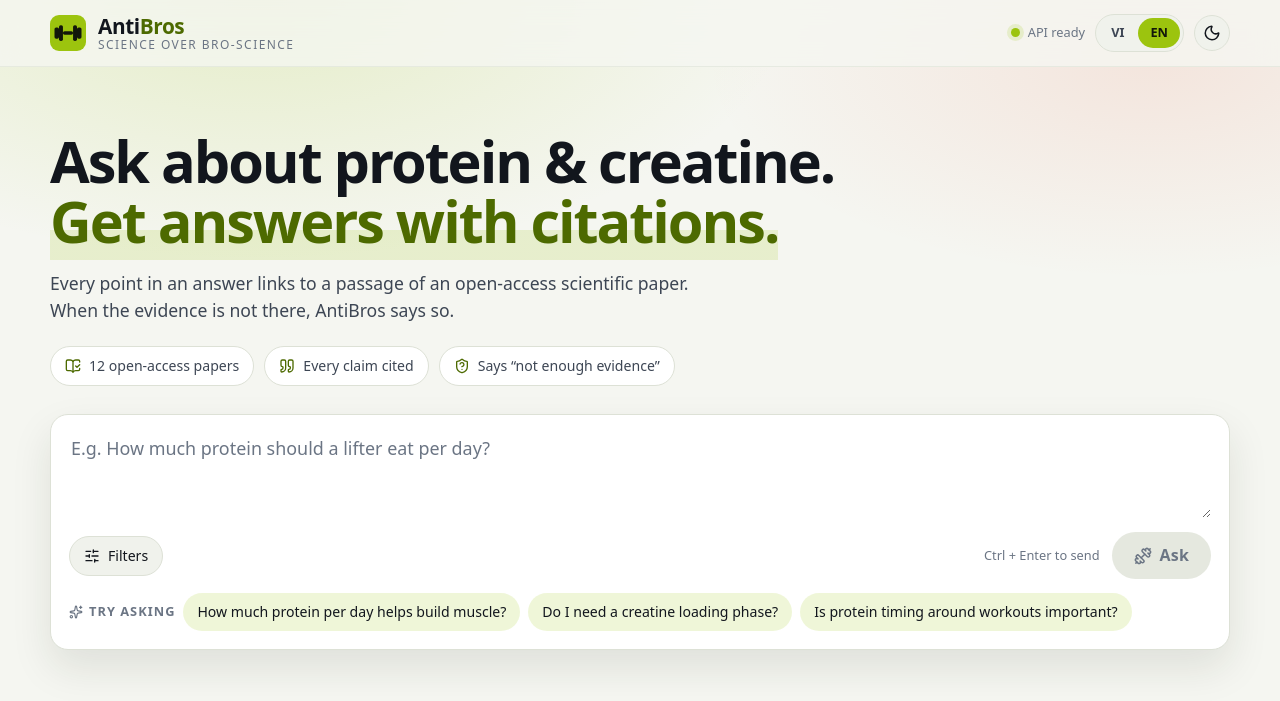
Test: App › sends active filters
Click the button "Filters" at (116, 556), box x1=69 y1=536 x2=163 y2=576
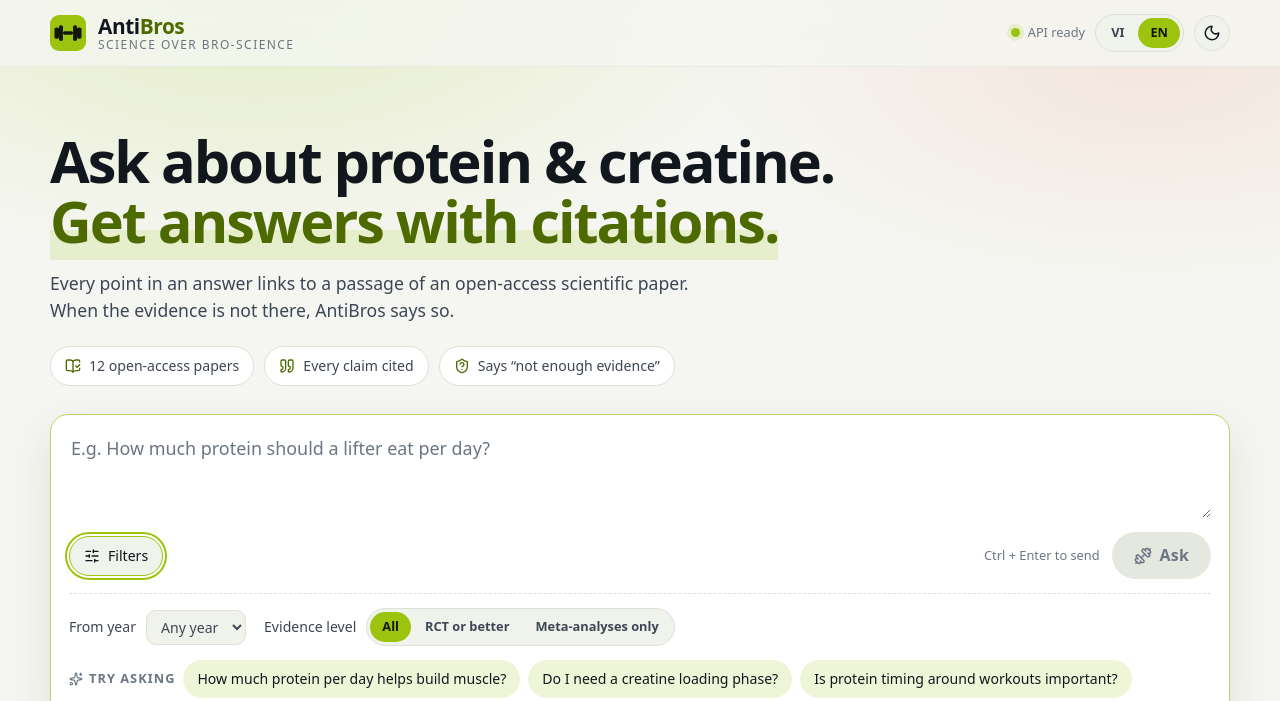
Select "≥ 2015" in the dropdown at (196, 627), box x1=146 y1=610 x2=246 y2=645
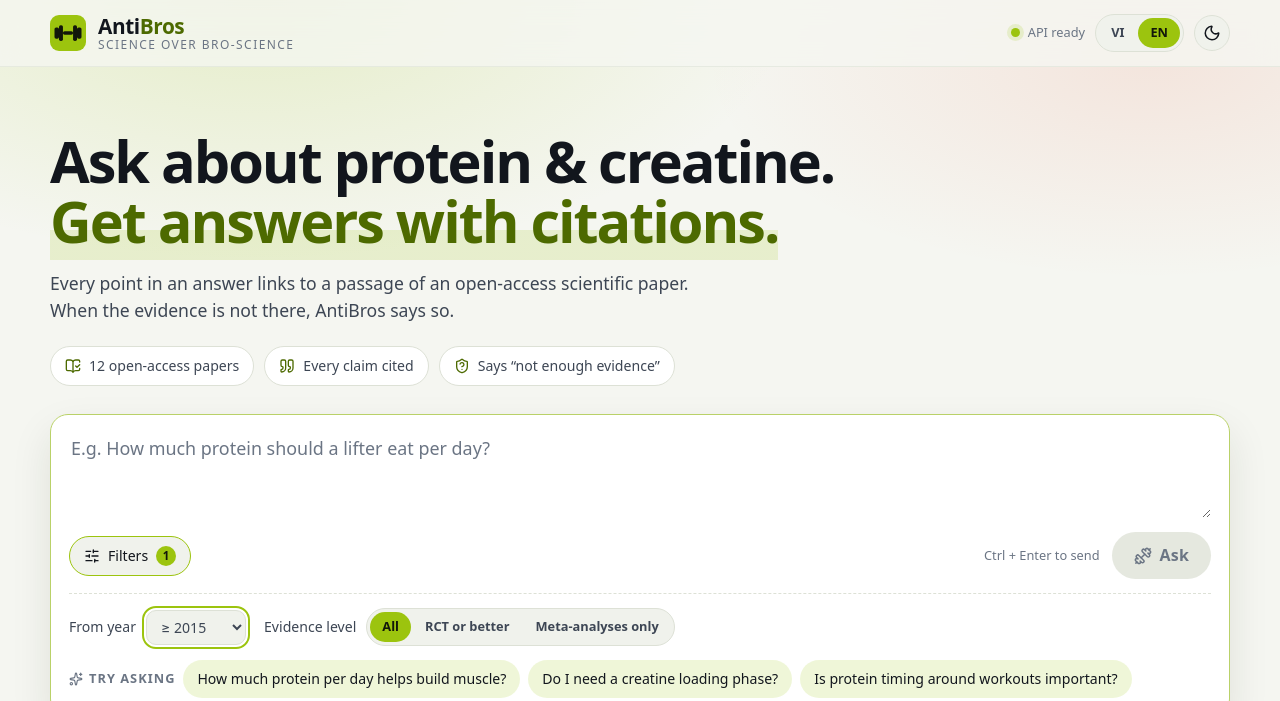
Click the button "Meta-analyses only" at (597, 627), box x1=524 y1=612 x2=671 y2=642
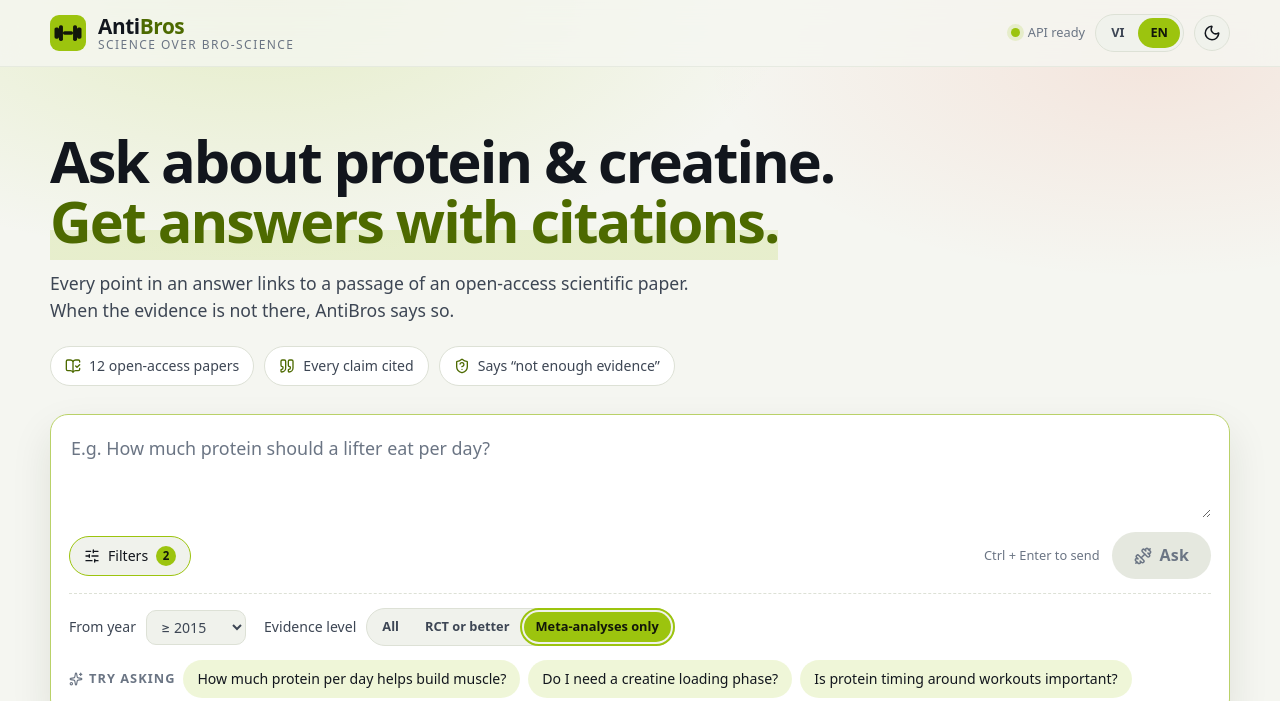
Type "Protein per day?" into the text box at (640, 475), box x1=69 y1=433 x2=1211 y2=518
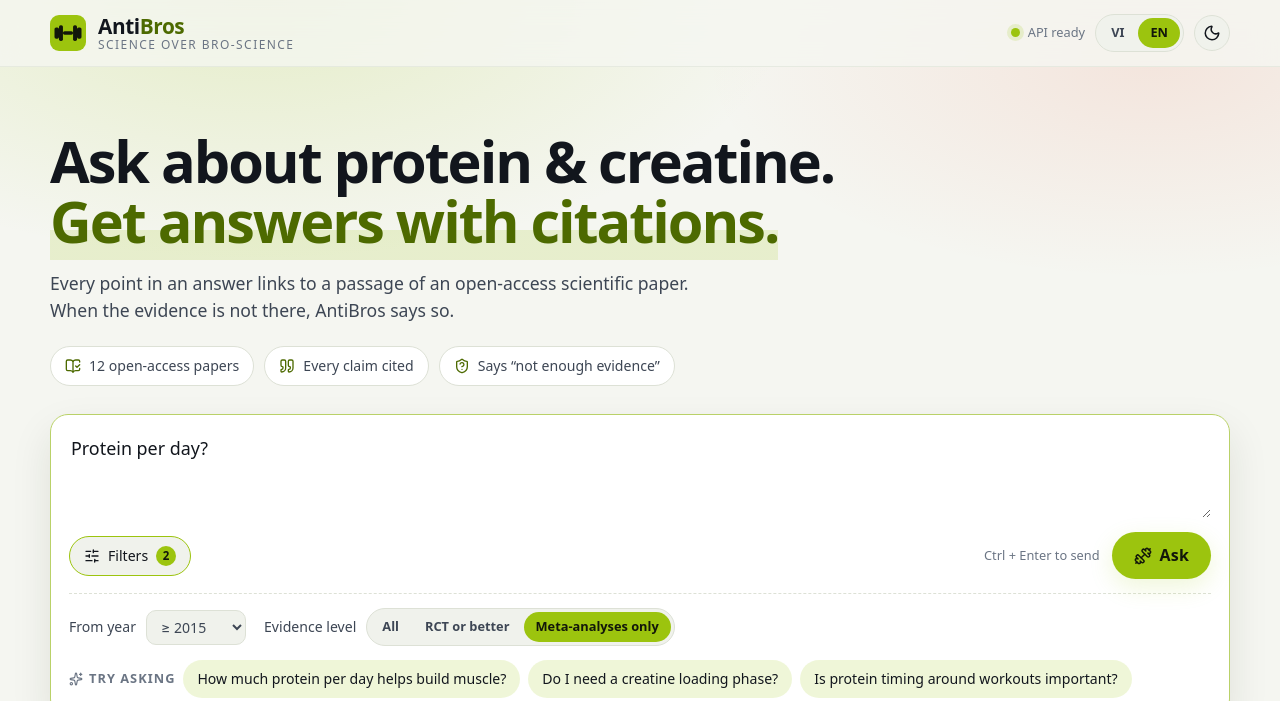
Click the button "Ask" at (1161, 556), box x1=1112 y1=532 x2=1211 y2=579
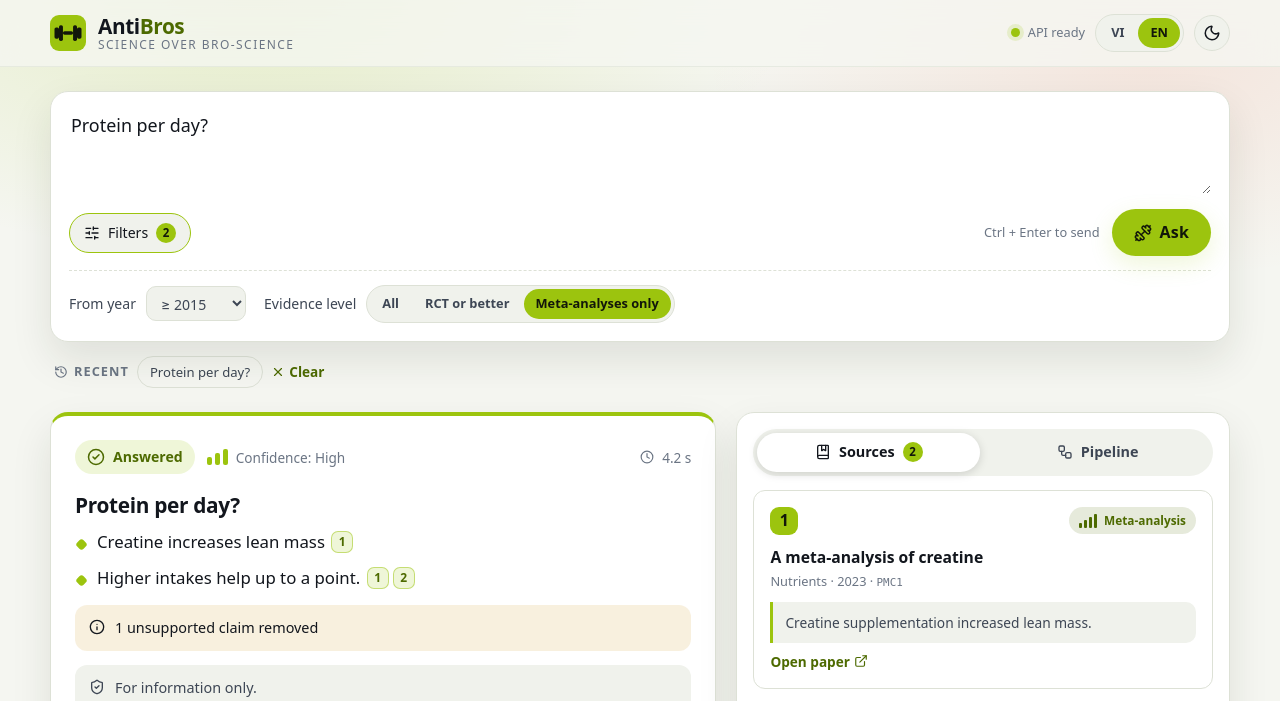
Check: the text "Answered" is shown, box x1=75 y1=440 x2=195 y2=474
